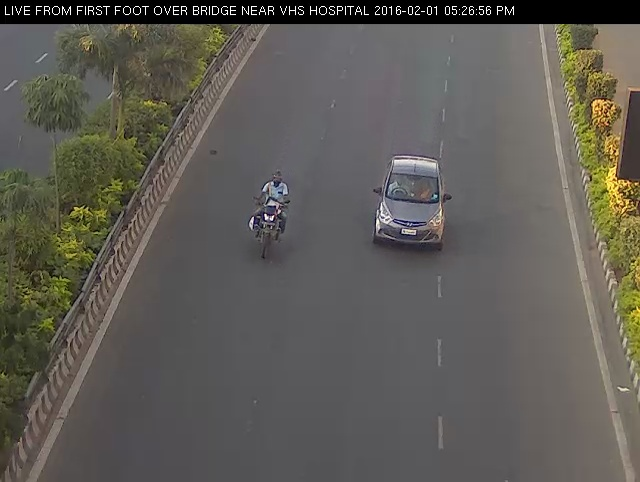Car: (364, 138, 457, 261)
Person: (239, 162, 299, 265)
